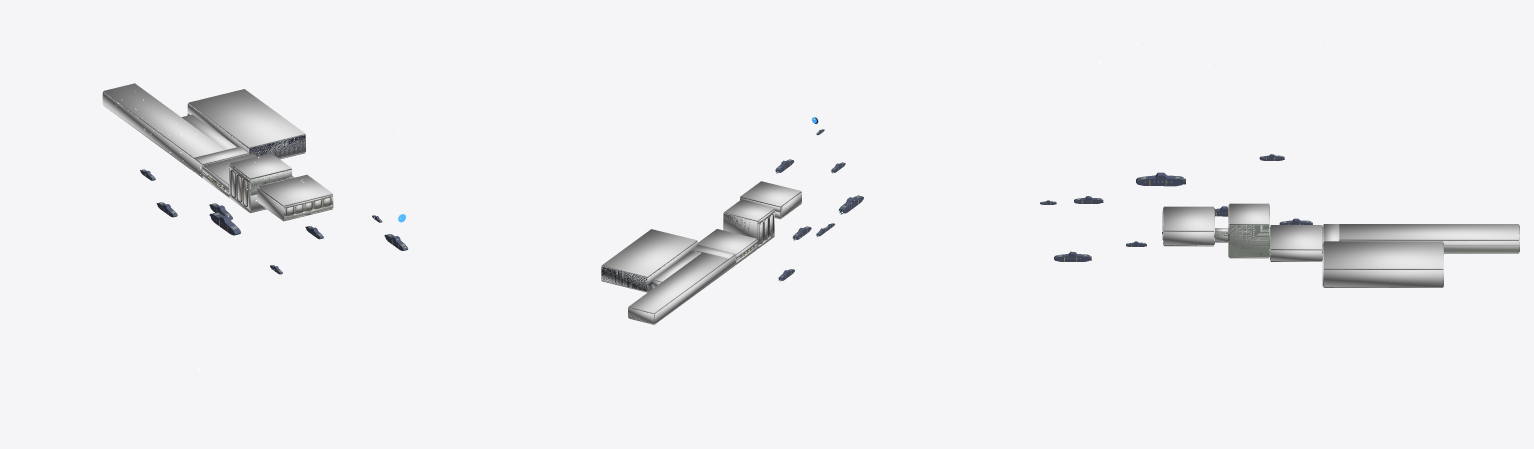
Rendered from prologue_ship.glb.
3 renders of one model, left to right at view 1: azimuth 30°, elevation 25°; view 2: azimuth 150°, elevation 25°; view 3: azimuth 270°, elevation 25°, orthographic. The views are drawn at different scales.
Parts seen in each view (by area): view 1: COL_course_164, COL_range_136, COL_bridge_020, COL_range_126, space_vc, COL_atrium_058, COL_course_162, course_vcd, COL_range_137, COL_troop_098; view 2: COL_course_164, COL_range_136, COL_bridge_020, COL_range_126, COL_troop_098, space_vc, COL_course_163, COL_atrium_058, course_vcd, COL_atrium_057, COL_range_137; view 3: COL_course_164, COL_range_136, COL_course_161, space_vc, atrium_vc, COL_troop_098, COL_bridge_020, COL_atrium_058, COL_range_127, COL_atrium_054, COL_bridge_019, range_vc (+1 smaller).
Boxes of the visible parts, x1,y1,x2,y2 form: COL_course_164: (188, 89, 305, 148); COL_range_136: (103, 83, 225, 158); COL_bridge_020: (258, 174, 332, 206); COL_range_126: (102, 92, 202, 176); space_vc: (140, 169, 407, 274); COL_atrium_058: (230, 153, 291, 178); COL_course_162: (249, 135, 305, 158); course_vcd: (188, 104, 305, 156); COL_range_137: (181, 114, 236, 149); COL_troop_098: (203, 153, 256, 185); COL_course_164: (601, 229, 697, 277); COL_range_136: (628, 252, 728, 313); COL_bridge_020: (740, 181, 801, 206); COL_range_126: (654, 255, 735, 323); COL_troop_098: (697, 229, 756, 254); space_vc: (775, 129, 863, 280); COL_course_163: (601, 266, 647, 291); COL_atrium_058: (724, 200, 774, 221); course_vcd: (601, 262, 668, 291); COL_atrium_057: (723, 213, 757, 239); COL_range_137: (653, 251, 700, 282); COL_course_164: (1323, 241, 1443, 269); COL_range_136: (1339, 224, 1518, 240); COL_course_161: (1323, 270, 1443, 286); space_vc: (1040, 154, 1311, 261); atrium_vc: (1215, 205, 1269, 257); COL_troop_098: (1270, 225, 1321, 250); COL_bridge_020: (1163, 206, 1213, 231); COL_atrium_058: (1229, 203, 1269, 224); COL_range_127: (1340, 241, 1518, 249); COL_atrium_054: (1229, 225, 1269, 256); COL_bridge_019: (1163, 231, 1213, 244); range_vc: (1322, 225, 1519, 252).
Size of the model in its own units: 110 by 80.04 by 124.
